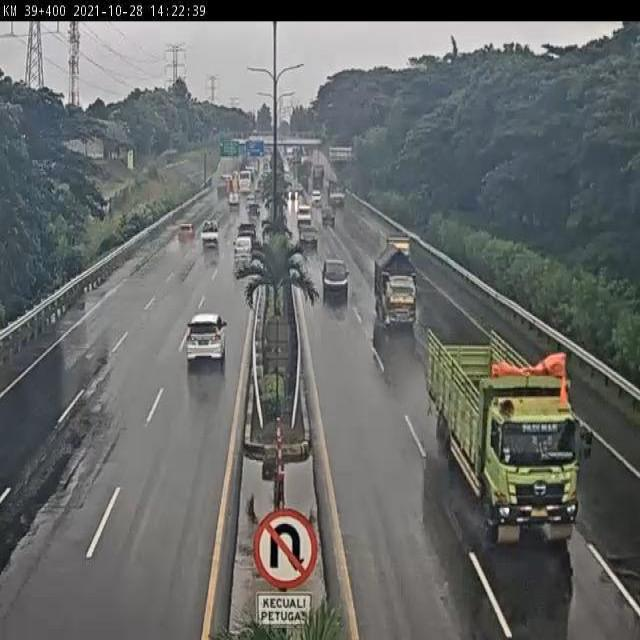car: (186, 312, 225, 365), (320, 257, 351, 299), (298, 221, 318, 251), (232, 236, 253, 259), (200, 220, 219, 243), (175, 220, 194, 241), (237, 222, 256, 242), (320, 207, 336, 228)
truck: (426, 328, 579, 545), (374, 240, 421, 328)
